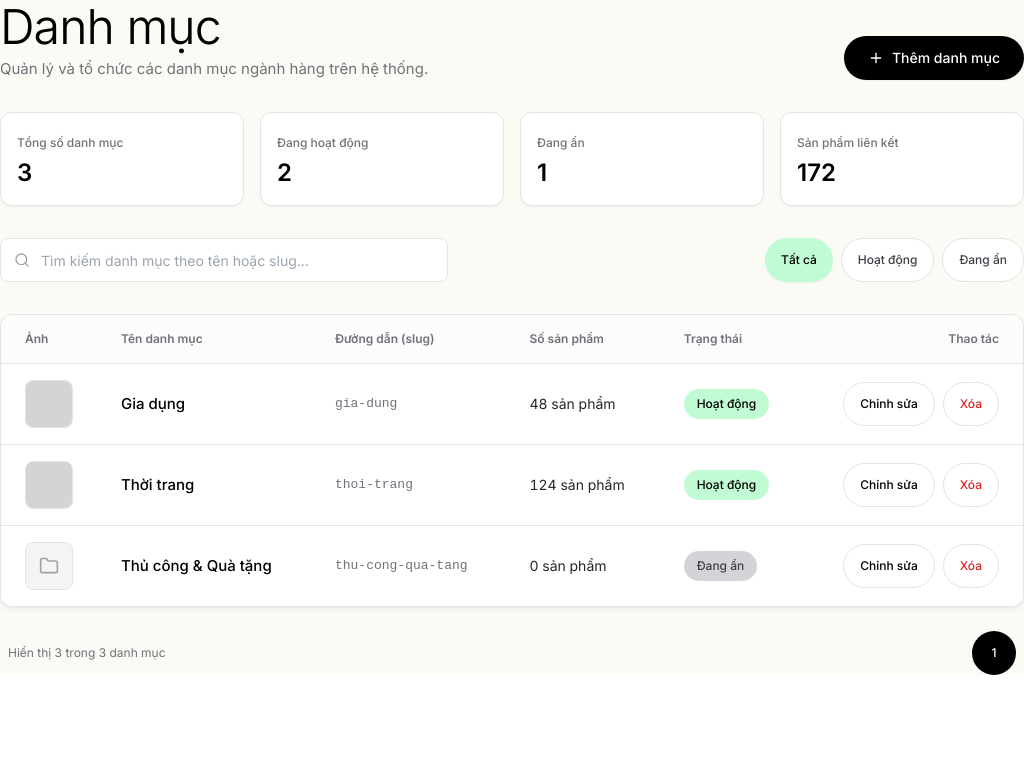
Scenario: AdminCategoryPage (Stitch Screen 1 & DESIGN.md) › opens delete dialog on table row "Xóa" click
This screenshot has width=1024, height=768.
Click the button "Xóa" in the row of "Gia dụng".
click(971, 404)  # box [943,382,999,426]
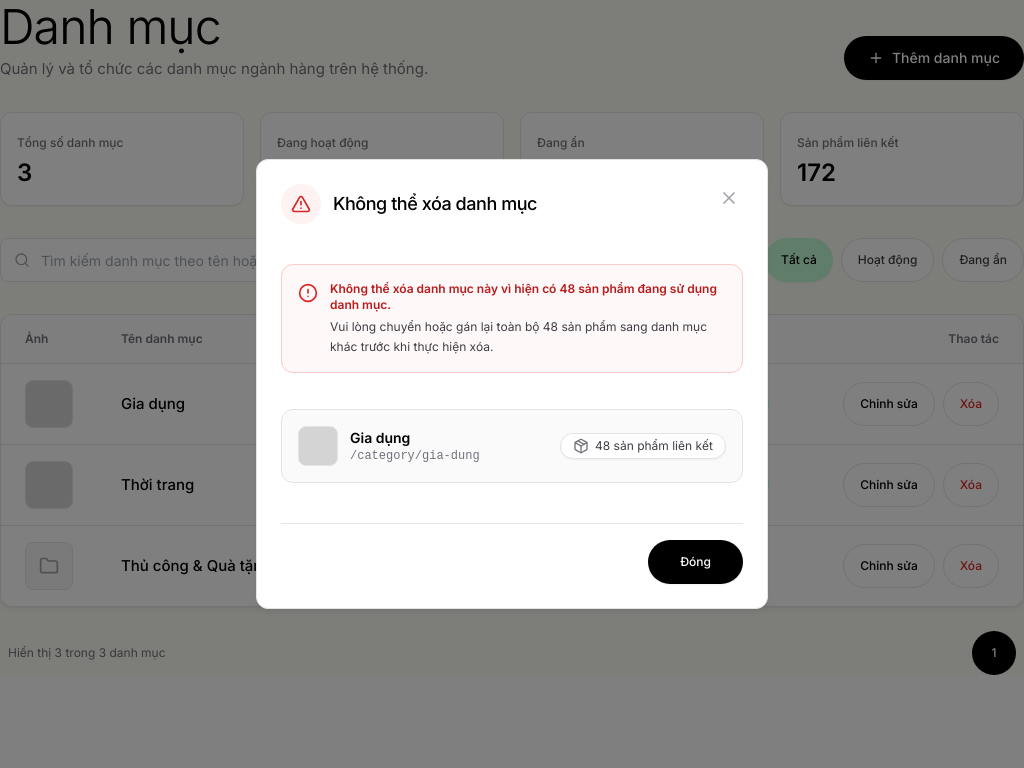
Now the dialog with test id "delete-warning-dialog" is shown, box [256,159,768,609]
Now the heading "Không thể xóa danh mục" is shown, box [333,190,537,218]
